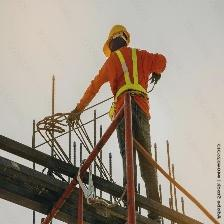Person: (80, 21, 168, 183)
helmet: (102, 22, 130, 54)
vest: (109, 49, 145, 111)
